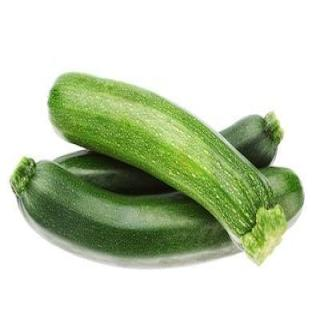Zucchini: (49, 74, 286, 263), (11, 158, 239, 265), (55, 150, 175, 195), (56, 152, 172, 194)
